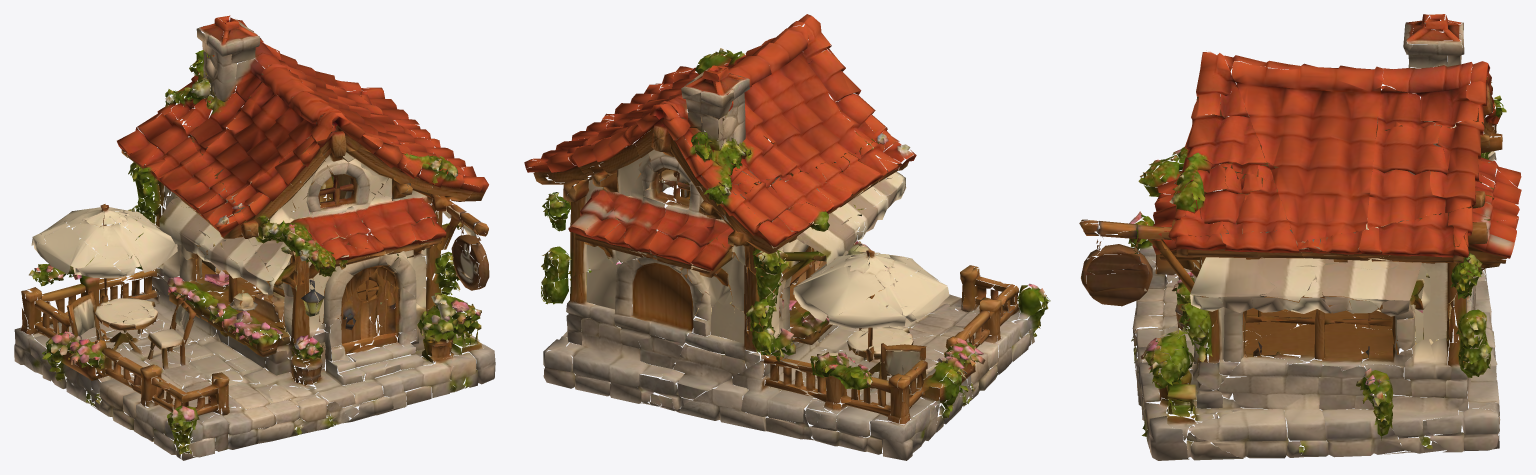
The model's file is cafe-v2.glb.
The picture shows the model from 3 angles, left to right: view 1: azimuth 30°, elevation 25°; view 2: azimuth 150°, elevation 25°; view 3: azimuth 270°, elevation 25°; orthographic projection. The views are drawn at different scales.
Parts seen in each view (by area): view 1: tripo_node_d00f5204-c54b-4dd5-97aa-67ed4b3064ab; view 2: tripo_node_d00f5204-c54b-4dd5-97aa-67ed4b3064ab; view 3: tripo_node_d00f5204-c54b-4dd5-97aa-67ed4b3064ab.
Part boxes in pixels (<box>): tripo_node_d00f5204-c54b-4dd5-97aa-67ed4b3064ab: <box>14,15,495,460</box>; tripo_node_d00f5204-c54b-4dd5-97aa-67ed4b3064ab: <box>524,14,1050,460</box>; tripo_node_d00f5204-c54b-4dd5-97aa-67ed4b3064ab: <box>1079,14,1521,460</box>.
Size of the model in its own units: 5.64 by 4.41 by 4.9.
1 material, 1 textured.
